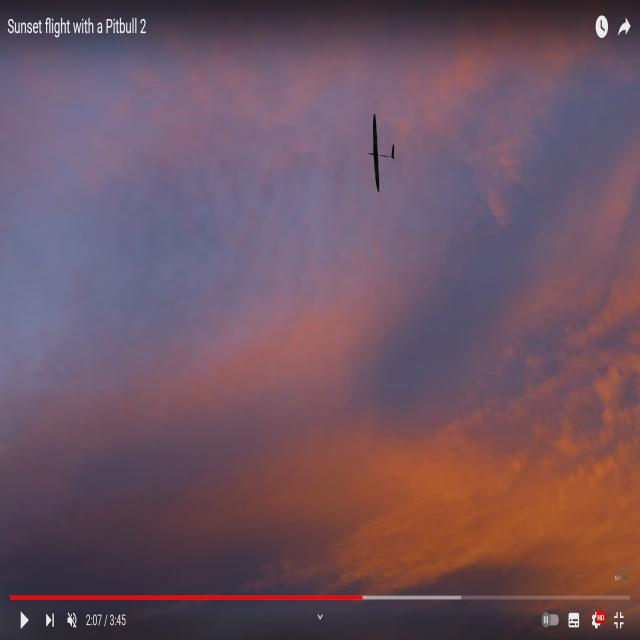iha: (367, 147, 397, 161)
